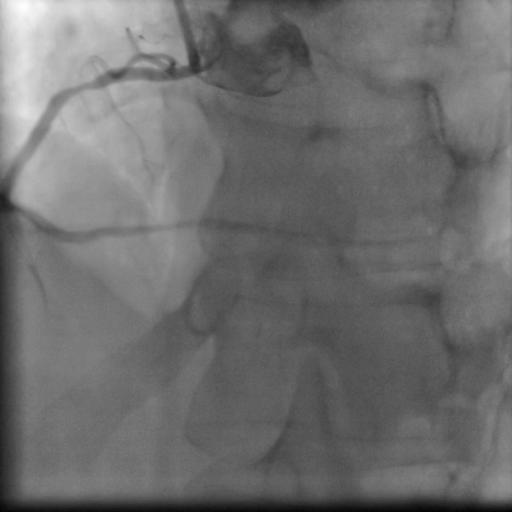Stenosis: (63, 70, 100, 99)
